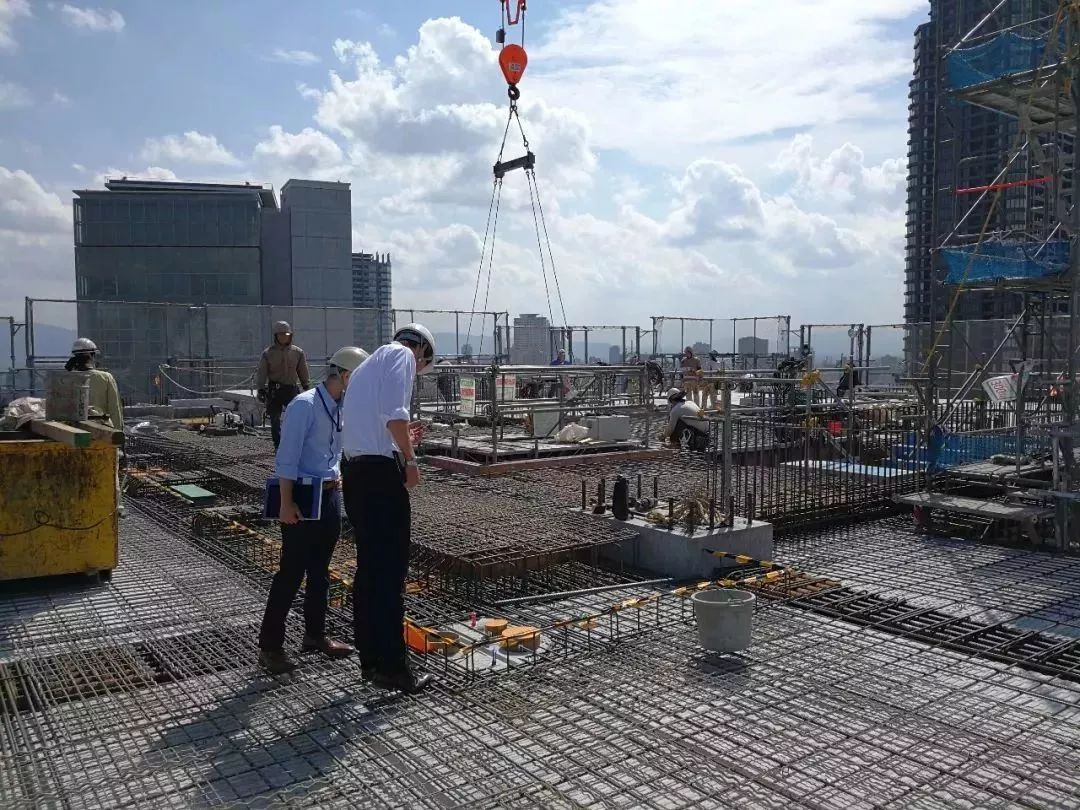helmet: (394, 323, 436, 374), (329, 346, 372, 373), (71, 339, 100, 353), (273, 320, 293, 335), (666, 388, 680, 399)
hook: (477, 37, 546, 113)
person: (256, 342, 375, 674), (341, 321, 441, 690), (259, 319, 311, 455), (64, 334, 129, 431), (657, 386, 705, 449), (679, 345, 704, 408)
